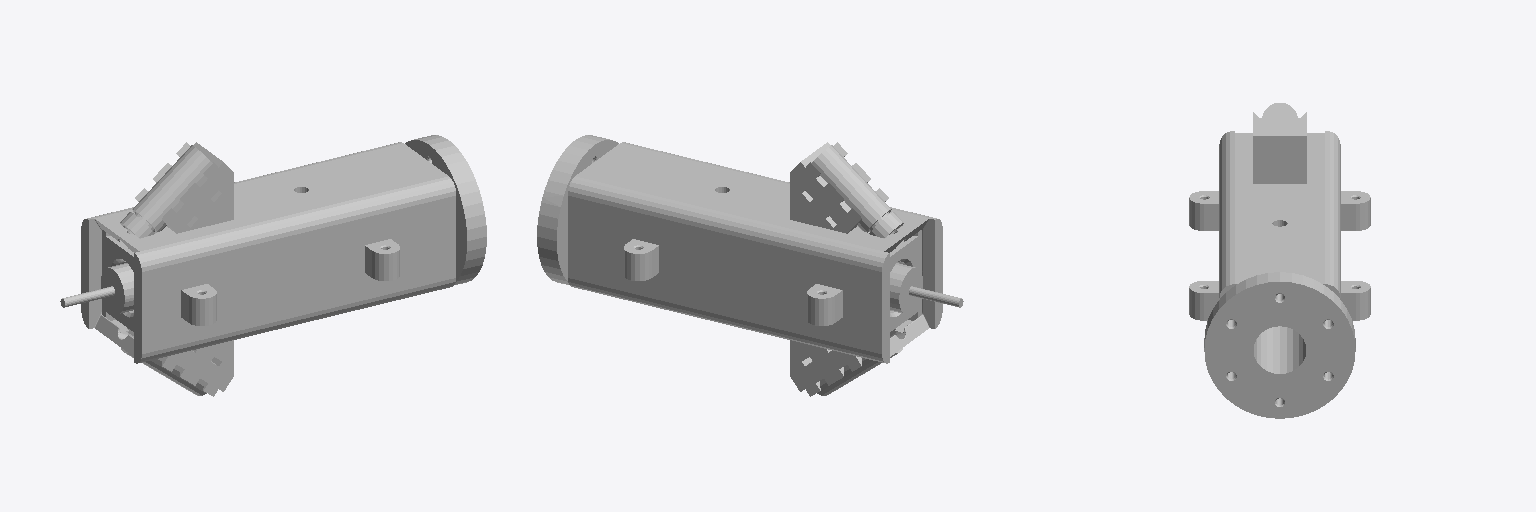
File: SolModel.obj
3 views of the same model, side by side, from view 1: azimuth 30°, elevation 25°; view 2: azimuth 150°, elevation 25°; view 3: azimuth 270°, elevation 25° (orthographic).
Visible parts, largest first — view 1: Solenoid; view 2: Solenoid; view 3: Solenoid.
Boxes of the visible parts, <box> form: Solenoid: <box>60,135,486,396</box>; Solenoid: <box>537,135,963,396</box>; Solenoid: <box>1189,103,1370,418</box>.
Size of the model in its own units: 73.67 by 45.1 by 30.